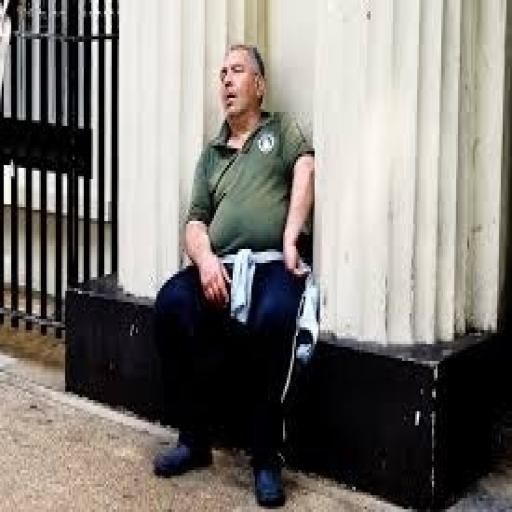sleeping: (149, 39, 318, 509)
